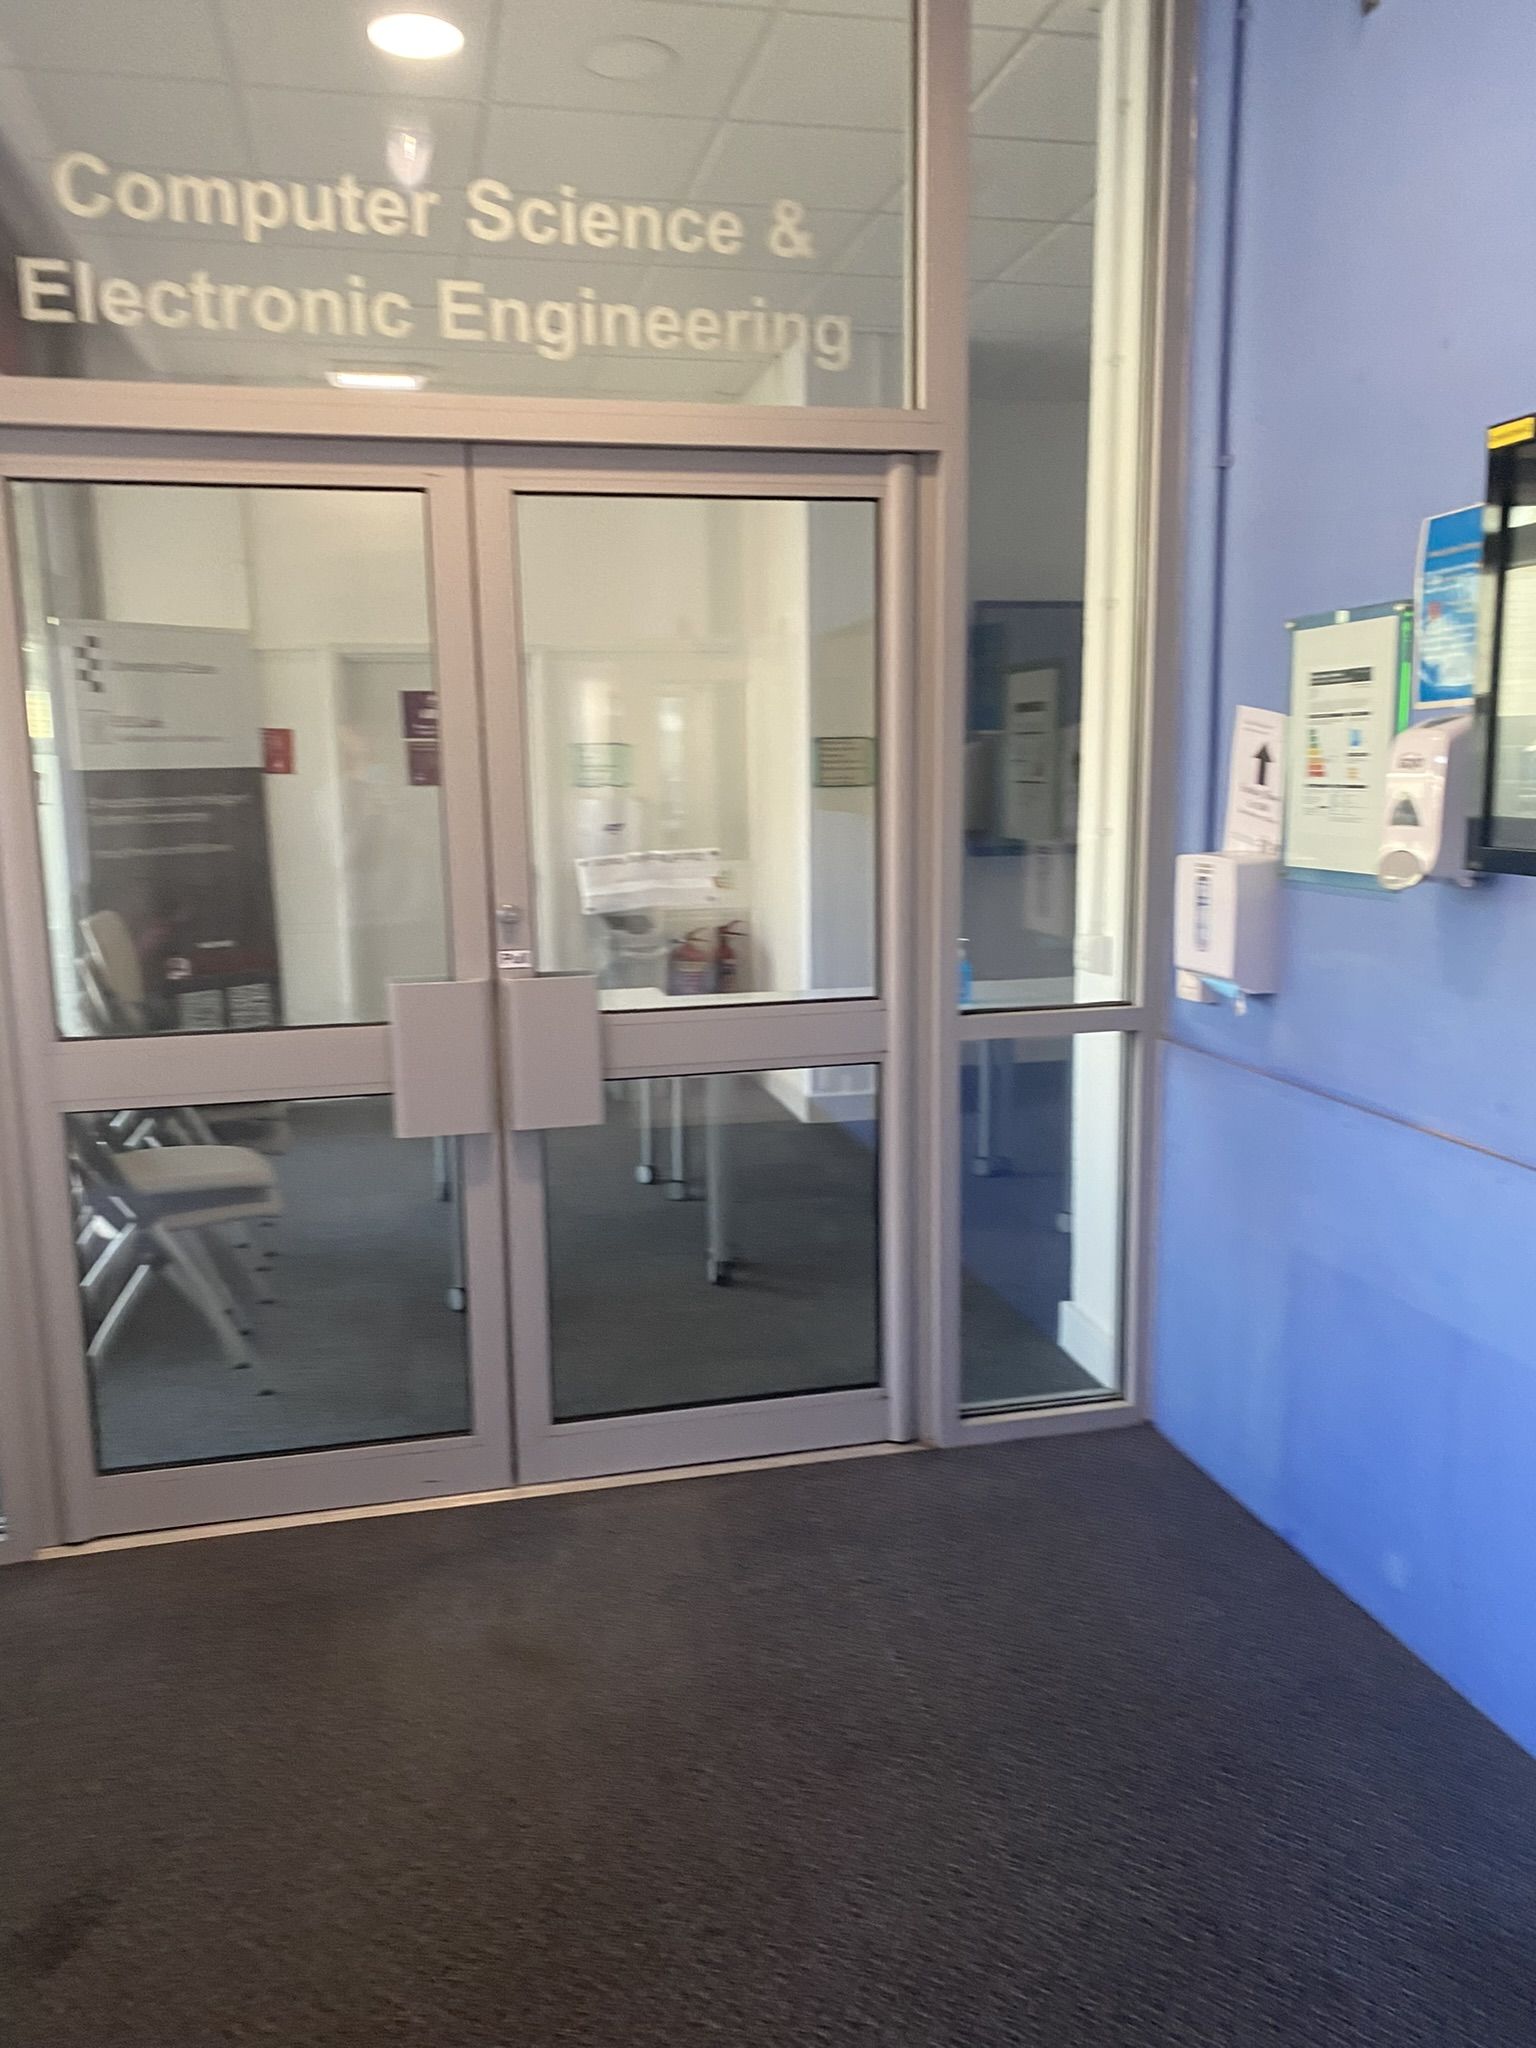door: (16, 429, 971, 1563)
